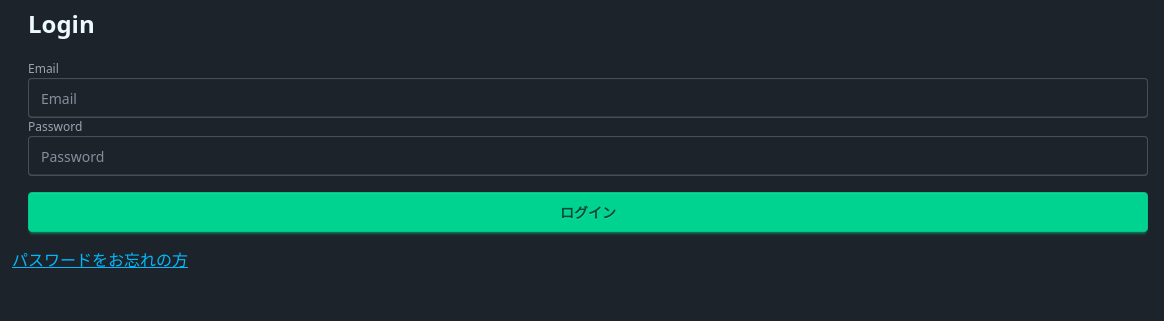
Test case: LoginForm.tsx › フォームのUI表示 › 必須バリデーションが機能している
This screenshot has width=1164, height=321.
# 未入力のままフォームを送信
Click the button "ログイン" at (588,212), box [28,192,1148,232]
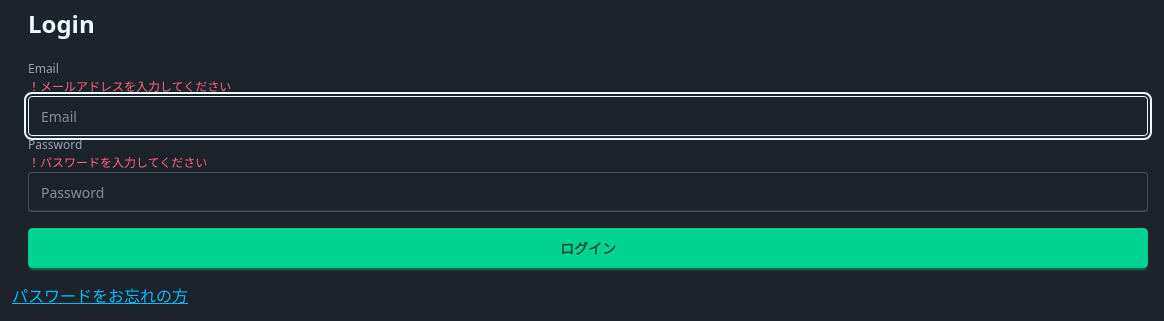
Expected: the text "！メールアドレスを入力してください" is shown, [28,78,231,95]
Expected: the text "！パスワードを入力してください" is shown, [28,154,207,171]
